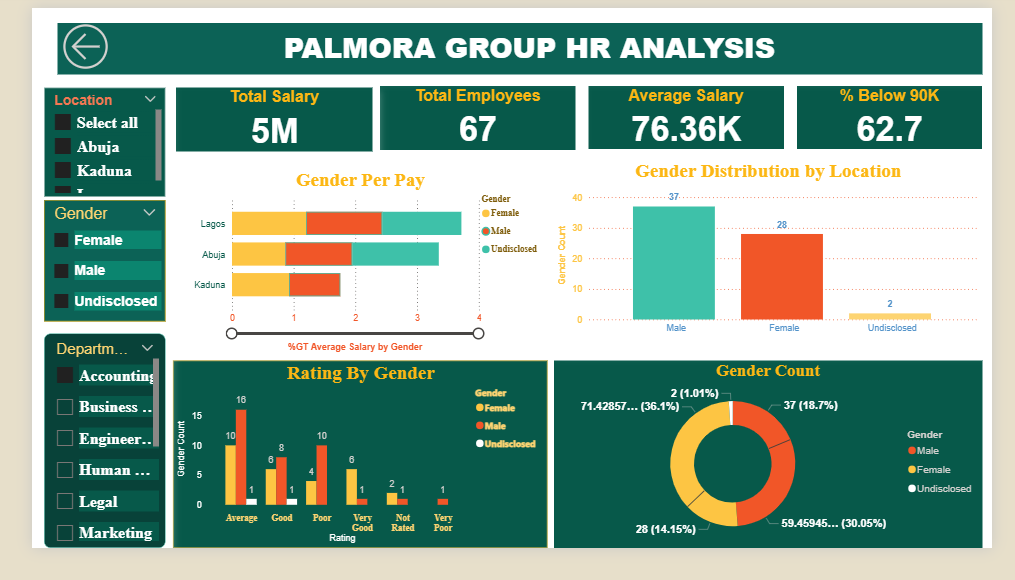

What the dashboard file says about the page in this screenshot:
{"tool":"powerbi","page":{"name":"Dashboard","canvas":[1280,720],"ordinal":0},"visuals":[{"type":"card","title":"Average Salary","fields":{"Values":["Palmoria Group HR emp-data.Average Salary by Gender"]},"box":[742,104.1,260.3,83.7],"z":0},{"type":"card","title":"Total Employees","fields":{"Values":["Palmoria Group HR emp-data.Gender Count"]},"box":[464.9,104.1,260.3,85.5],"z":1000},{"type":"card","title":"Total Salary","fields":{"Values":["Sum(Palmoria Group HR emp-data.Salary)"]},"box":[191.5,106,262.2,85.5],"z":2000},{"type":"card","title":"% Below 90K","fields":{"Values":["BonusID.Below 90%"]},"box":[1019.6,103.4,246.5,84.3],"z":3000},{"type":"textbox","box":[33.3,20,1233.3,68.3],"z":4000},{"type":"barChart","title":"Gender Per Pay","fields":{"Category":["Palmoria Group HR emp-data.Location"],"Y":["Palmoria Group HR emp-data.Average Salary by Gender"],"Series":["Palmoria Group HR emp-data.Gender"]},"box":[187.7,213.1,499.5,248.1],"z":5000},{"type":"clusteredColumnChart","title":"Rating By Gender","fields":{"Category":["Palmoria Group HR emp-data.Rating"],"Y":["Palmoria Group HR emp-data.Gender Count"],"Series":["Palmoria Group HR emp-data.Gender"]},"box":[187.7,470.8,499.5,249.7],"z":6000},{"type":"actionButton","box":[33.4,14.3,100.2,74.8],"z":7000},{"type":"slicer","fields":{"Values":["Palmoria Group HR emp-data.Location"]},"box":[16,106,162,146],"z":8000},{"type":"slicer","fields":{"Values":["Palmoria Group HR emp-data.Department"]},"box":[16,434,162,286],"z":9000},{"type":"donutChart","title":"Gender Count","fields":{"Category":["Palmoria Group HR emp-data.Gender","Palmoria Group HR emp-data.Location","BonusID.Dept."],"Y":["Palmoria Group HR emp-data.Gender Count","BonusID.Below 90%"]},"box":[695.1,469.2,571,249.7],"z":10000},{"type":"slicer","fields":{"Values":["Palmoria Group HR emp-data.Gender"]},"box":[16,256,162,162],"z":11000},{"type":"clusteredColumnChart","title":"Gender Distribution by Location","fields":{"Category":["Palmoria Group HR emp-data.Gender"],"Y":["Palmoria Group HR emp-data.Gender Count"]},"box":[695.1,202,571,251.3],"z":12000}]}

Visuals, with their boxes in screenshot pixels (x1, y1, x2, y2), scaled from the page's 1280x720 canvas onto the 1015x580 screenshot:
"Average Salary" card: l=588, t=84, r=795, b=151
"Total Employees" card: l=369, t=84, r=575, b=153
"Total Salary" card: l=152, t=85, r=360, b=154
"% Below 90K" card: l=809, t=83, r=1004, b=151
textbox: l=26, t=16, r=1004, b=71
"Gender Per Pay" barChart: l=149, t=172, r=545, b=372
"Rating By Gender" clusteredColumnChart: l=149, t=379, r=545, b=579
actionButton: l=26, t=12, r=106, b=72
slicer - Palmoria Group HR emp-data.Location: l=13, t=85, r=141, b=203
slicer - Palmoria Group HR emp-data.Department: l=13, t=350, r=141, b=579
"Gender Count" donutChart: l=551, t=378, r=1004, b=579
slicer - Palmoria Group HR emp-data.Gender: l=13, t=206, r=141, b=337
"Gender Distribution by Location" clusteredColumnChart: l=551, t=163, r=1004, b=365
